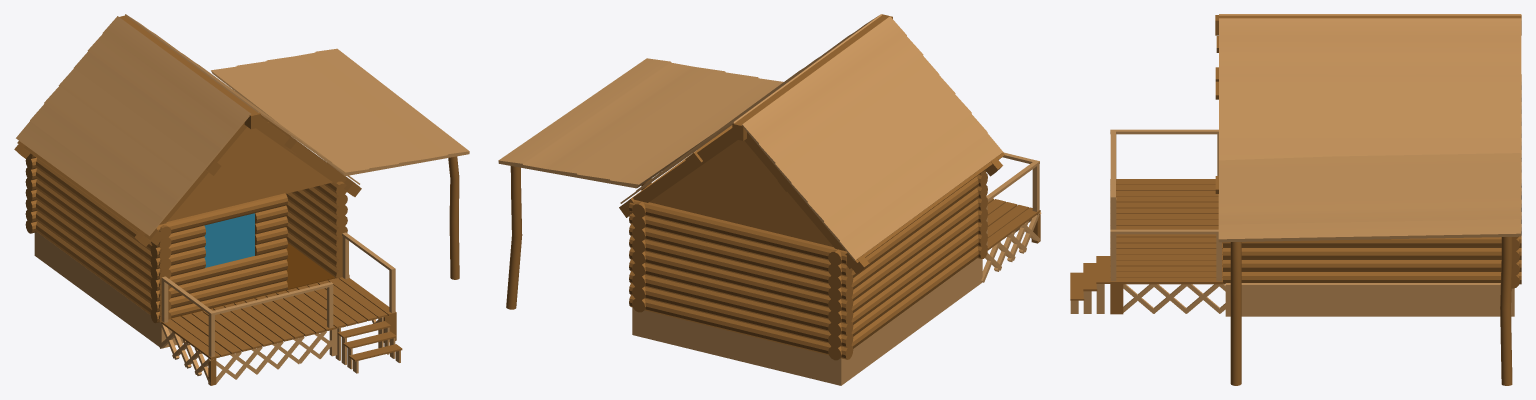
File: Main_house_YEEEEAh.fbx
3 renders of one model, left to right at view 1: azimuth 30°, elevation 25°; view 2: azimuth 150°, elevation 25°; view 3: azimuth 270°, elevation 25°, orthographic. The views are drawn at different scales.
Parts seen in each view (by area): view 1: Dach1, pCylinder36, group16_pasted__pCube5, Dachstuhl, pCube12, Dachbalken, pCube86, pCube94, pCube3, pCube6, pCube7, pCube8; view 2: Dach1, pCylinder36, Dachstuhl2, pCube12, Dachbalken, group16_pasted__pCube5, pCube86, pCube94; view 3: Dach1, pCylinder36, group16_pasted__pCube5, pCube12, pCube94, Dachbalken, pCube86, pCube10, pCube6, pCube7, pCube8.
Part boxes in pixels (x1=…): Dach1: x1=16, y1=14, x2=469, y2=279; pCylinder36: x1=25, y1=153, x2=347, y2=323; group16_pasted__pCube5: x1=161, y1=277, x2=396, y2=359; Dachstuhl: x1=134, y1=117, x2=352, y2=246; pCube12: x1=34, y1=232, x2=349, y2=348; Dachbalken: x1=17, y1=15, x2=361, y2=245; pCube86: x1=159, y1=319, x2=378, y2=384; pCube94: x1=161, y1=232, x2=395, y2=356; pCube3: x1=204, y1=213, x2=254, y2=267; pCube6: x1=337, y1=321, x2=390, y2=338; pCube7: x1=343, y1=331, x2=396, y2=348; pCube8: x1=349, y1=344, x2=402, y2=361; Dach1: x1=498, y1=14, x2=1002, y2=309; pCylinder36: x1=629, y1=170, x2=987, y2=360; Dachstuhl2: x1=619, y1=128, x2=869, y2=273; pCube12: x1=632, y1=258, x2=982, y2=385; Dachbalken: x1=622, y1=14, x2=1004, y2=268; group16_pasted__pCube5: x1=987, y1=198, x2=1040, y2=250; pCube86: x1=981, y1=212, x2=1041, y2=282; pCube94: x1=986, y1=152, x2=1039, y2=245; Dach1: x1=1218, y1=14, x2=1521, y2=385; pCylinder36: x1=1223, y1=74, x2=1521, y2=288; group16_pasted__pCube5: x1=1110, y1=179, x2=1224, y2=284; pCube12: x1=1225, y1=283, x2=1514, y2=316; pCube94: x1=1110, y1=129, x2=1221, y2=281; Dachbalken: x1=1215, y1=15, x2=1521, y2=193; pCube86: x1=1123, y1=284, x2=1225, y2=313; pCube10: x1=1110, y1=284, x2=1123, y2=314; pCube6: x1=1096, y1=256, x2=1110, y2=283; pCube7: x1=1083, y1=263, x2=1097, y2=291; pCube8: x1=1070, y1=272, x2=1084, y2=300.
Bounding box in the file's own units: 741 × 483 × 781.
